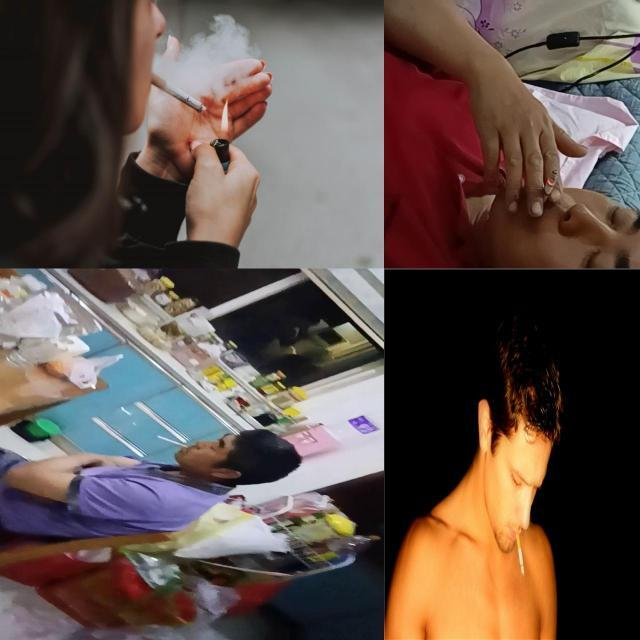cigarette: (146, 70, 208, 114), (539, 168, 559, 206), (516, 531, 525, 575), (157, 436, 189, 448)
